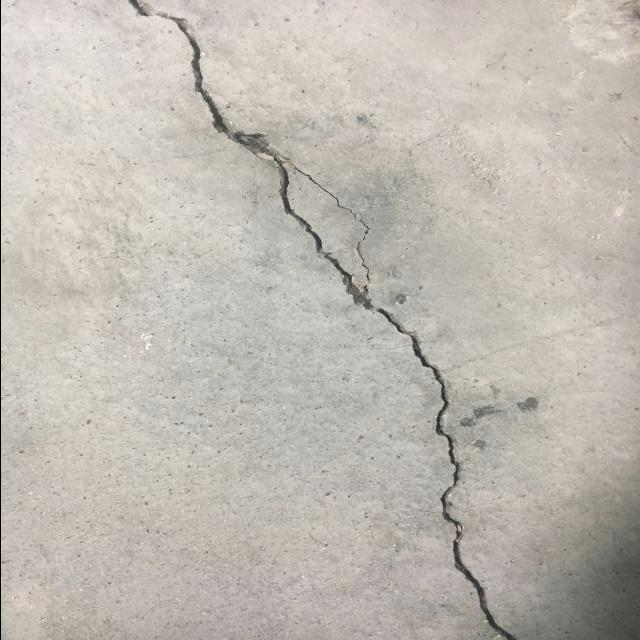SurfaceCrack: (5, 1, 579, 640)
